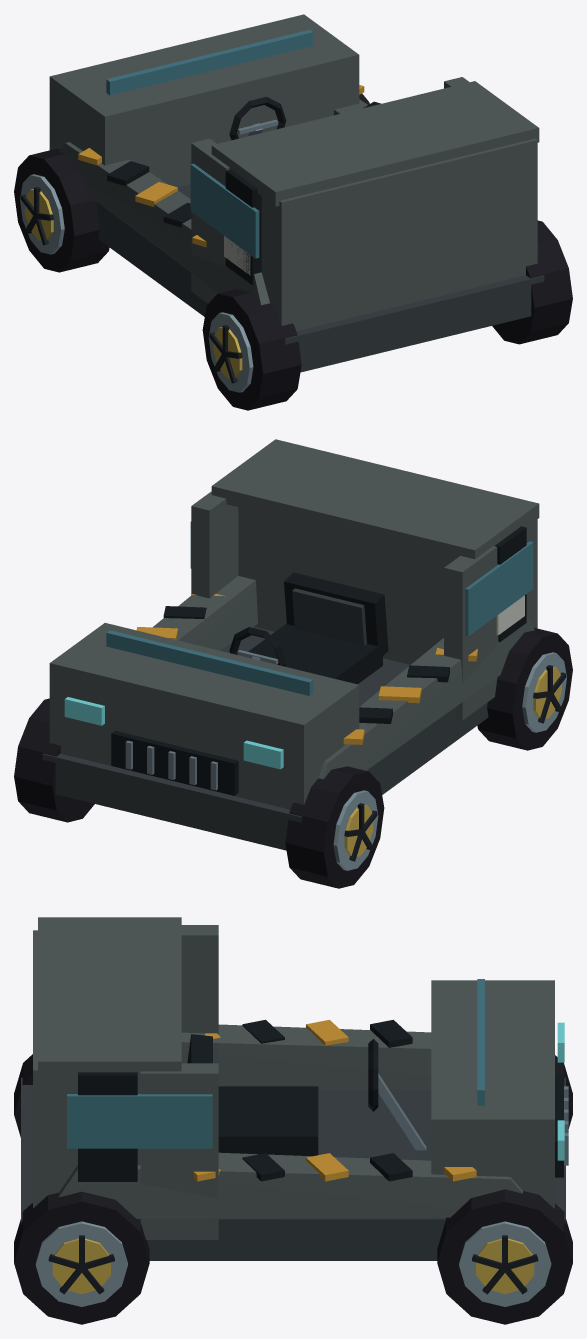
The model's file is kart.glb.
3 renders of one model, top to bottom at view 1: azimuth 30°, elevation 25°; view 2: azimuth 150°, elevation 25°; view 3: azimuth 270°, elevation 25°, orthographic. The views are drawn at different scales.
Parts seen in each view (by area): view 1: identity-van-van-utility-body, wheel-rear-left, wheel-front-left, wheel-rear-right, identity-van-motif-hazard-stripes, identity-van-motif-speakers, identity-van-driver-cockpit, identity-van-motif-medical; view 2: identity-van-van-utility-body, identity-van-driver-cockpit, wheel-front-left, wheel-rear-left, wheel-front-right, identity-van-motif-hazard-stripes, identity-van-motif-speakers, identity-van-motif-medical; view 3: identity-van-van-utility-body, wheel-front-right, wheel-rear-right, identity-van-driver-cockpit, identity-van-motif-hazard-stripes, identity-van-motif-speakers, wheel-rear-left.
Part boxes in pixels (left/top/right/bottom): identity-van-van-utility-body: left=49, top=14, right=544, bottom=372; wheel-rear-left: left=202, top=289, right=301, bottom=410; wheel-front-left: left=14, top=148, right=109, bottom=272; wheel-rear-right: left=492, top=220, right=572, bottom=344; identity-van-motif-hazard-stripes: left=78, top=85, right=381, bottom=247; identity-van-motif-speakers: left=225, top=169, right=261, bottom=285; identity-van-driver-cockpit: left=229, top=96, right=286, bottom=140; identity-van-motif-medical: left=224, top=236, right=250, bottom=275; identity-van-van-utility-body: left=42, top=439, right=539, bottom=850; identity-van-driver-cockpit: left=229, top=572, right=388, bottom=684; wheel-front-left: left=285, top=766, right=384, bottom=888; wheel-rear-left: left=477, top=627, right=572, bottom=750; wheel-front-right: left=14, top=698, right=94, bottom=822; identity-van-motif-hazard-stripes: left=136, top=594, right=477, bottom=744; identity-van-motif-speakers: left=495, top=526, right=526, bottom=641; identity-van-motif-medical: left=496, top=595, right=524, bottom=635; identity-van-van-utility-body: left=21, top=917, right=568, bottom=1260; wheel-front-right: left=437, top=1189, right=572, bottom=1324; wheel-rear-right: left=14, top=1191, right=149, bottom=1324; identity-van-driver-cockpit: left=187, top=1034, right=426, bottom=1156; identity-van-motif-hazard-stripes: left=193, top=1019, right=476, bottom=1181; identity-van-motif-speakers: left=78, top=1072, right=137, bottom=1181; wheel-rear-left: left=14, top=1054, right=32, bottom=1137.
Size of the model in its own units: 2.13 by 1.38 by 2.8.
